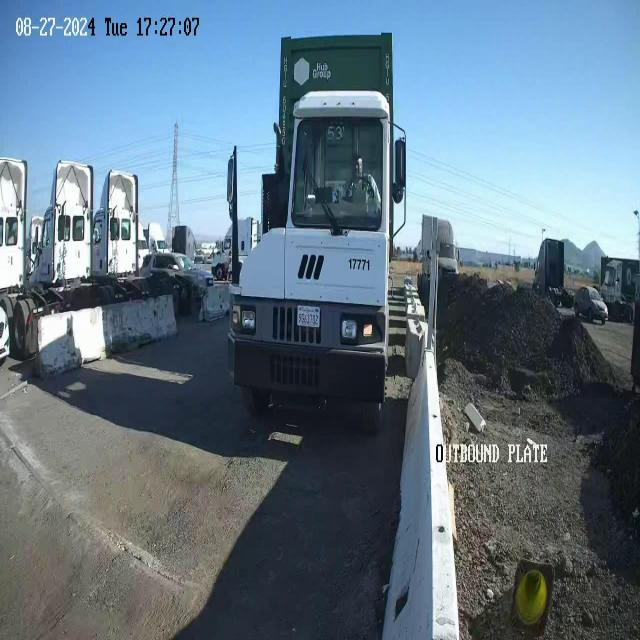TRUCK_OUT: (226, 31, 407, 428)
